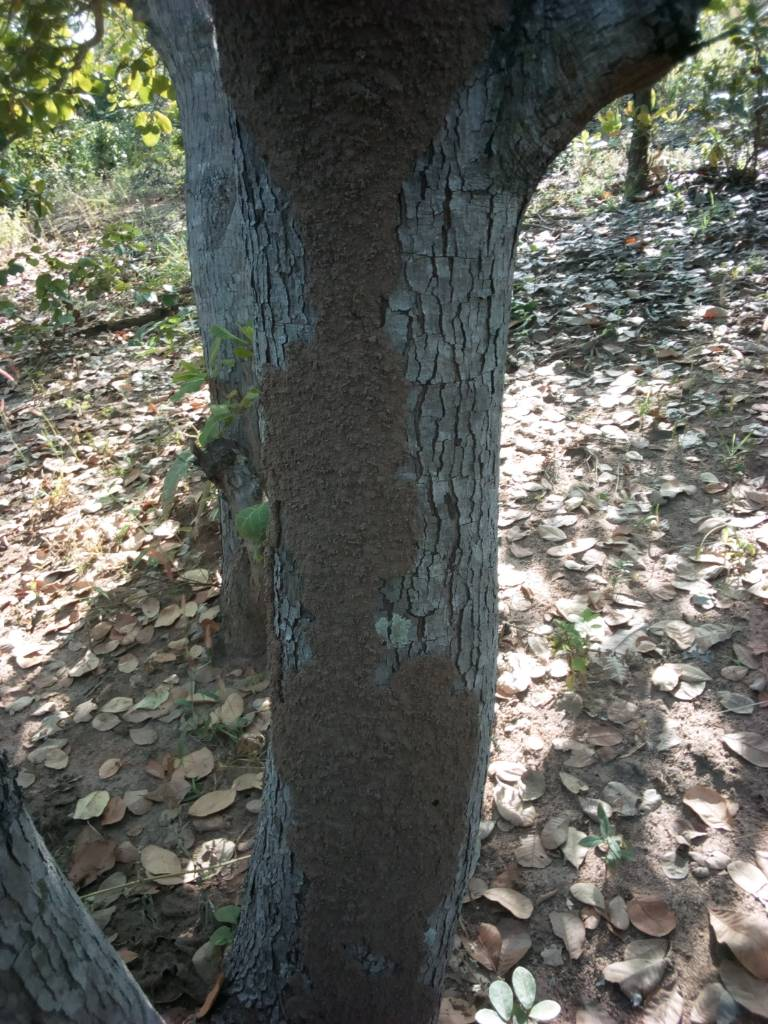Virose: (206, 2, 561, 519), (207, 552, 549, 1015)
